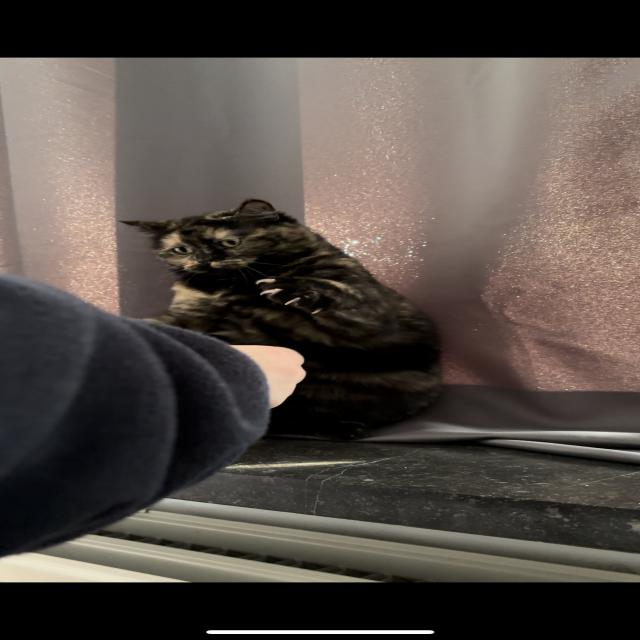authorized: (117, 198, 444, 441)
